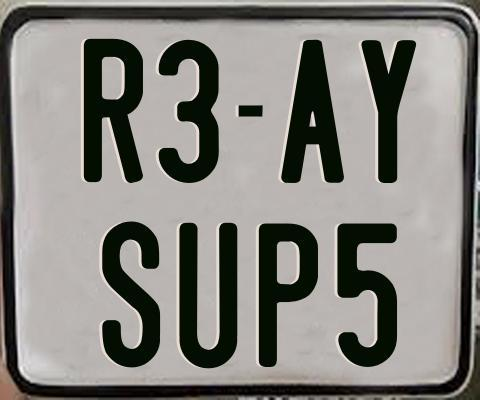3: (157, 40, 220, 186)
5: (334, 221, 400, 368)
A: (280, 40, 346, 185)
P: (257, 223, 321, 371)
R: (83, 38, 146, 185)
S: (99, 220, 161, 367)
U: (179, 221, 238, 371)
Y: (361, 40, 416, 184)
